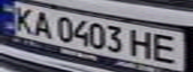0: (51, 14, 75, 43), (87, 20, 106, 51)
3: (106, 24, 127, 55)
4: (69, 18, 90, 47)
A: (30, 9, 57, 38)
E: (148, 31, 187, 64)
H: (127, 28, 157, 60)
K: (9, 4, 39, 34)
